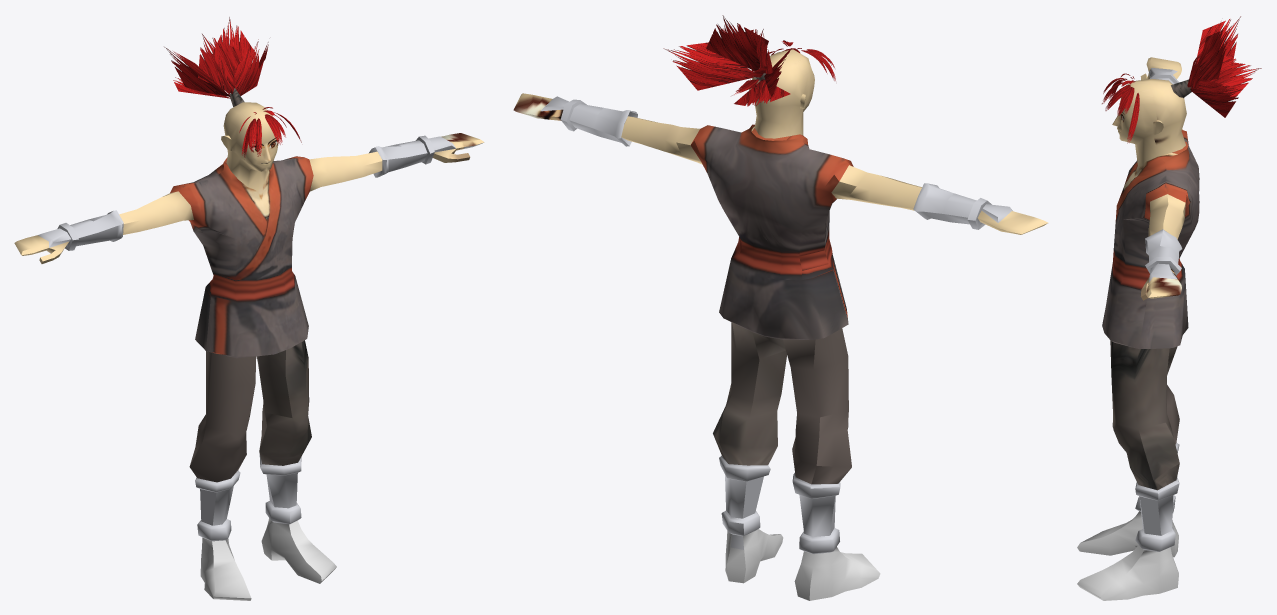
The model's file is michio full.fbx.
3 views of the same model, side by side, from view 1: azimuth 30°, elevation 25°; view 2: azimuth 150°, elevation 25°; view 3: azimuth 270°, elevation 25° (orthographic). The views are drawn at different scales.
Visible parts, largest first — view 1: michio_template, bun, fringe; view 2: michio_template, bun; view 3: michio_template, bun, fringe.
Part boxes in pixels (bbox=[...]): michio_template: bbox=[14, 102, 484, 600]; bun: bbox=[164, 17, 268, 106]; fringe: bbox=[239, 107, 301, 157]; michio_template: bbox=[513, 49, 1048, 600]; bun: bbox=[663, 15, 791, 106]; michio_template: bbox=[1077, 57, 1199, 600]; bun: bbox=[1171, 16, 1261, 117]; fringe: bbox=[1102, 73, 1139, 143].
Size of the model in its own units: 16804 by 18085 by 5519.
Materials: 8 (6 with a texture image).
